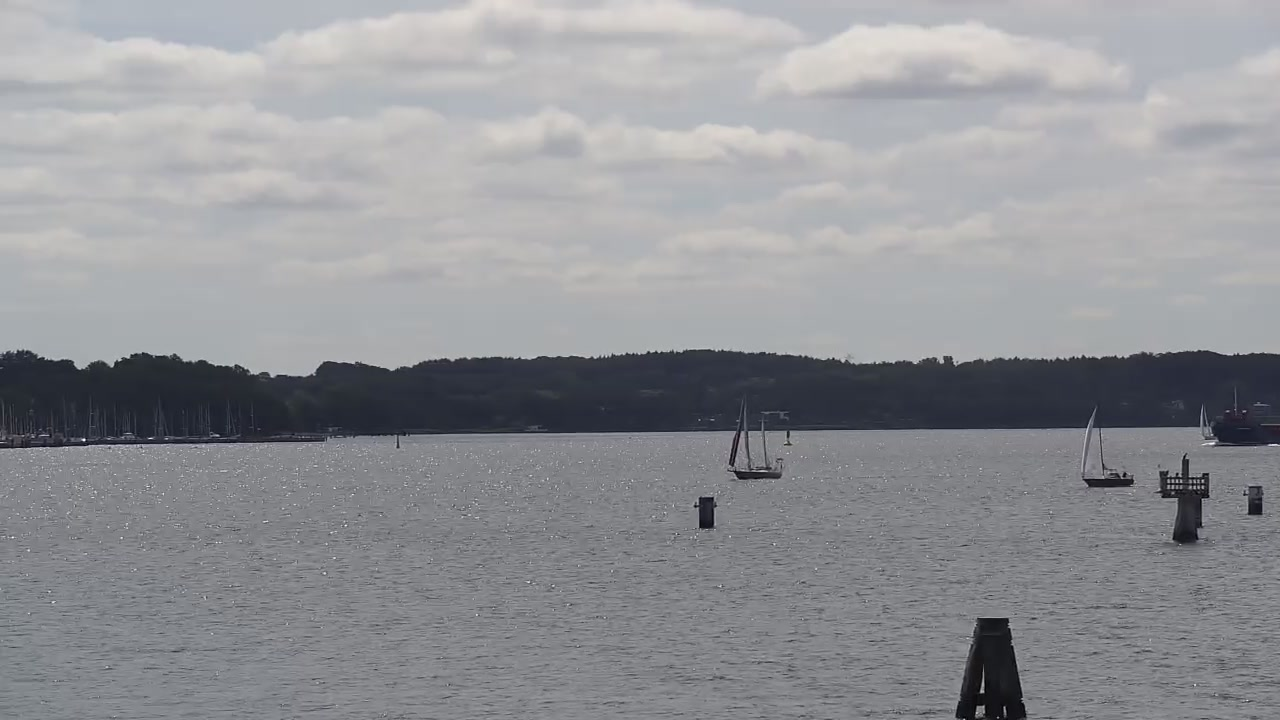sea: (726, 391, 784, 481), (1080, 404, 1133, 487), (1208, 384, 1280, 445), (61, 394, 84, 444), (146, 393, 169, 442), (217, 397, 241, 440), (98, 402, 122, 443), (1199, 401, 1217, 440)
